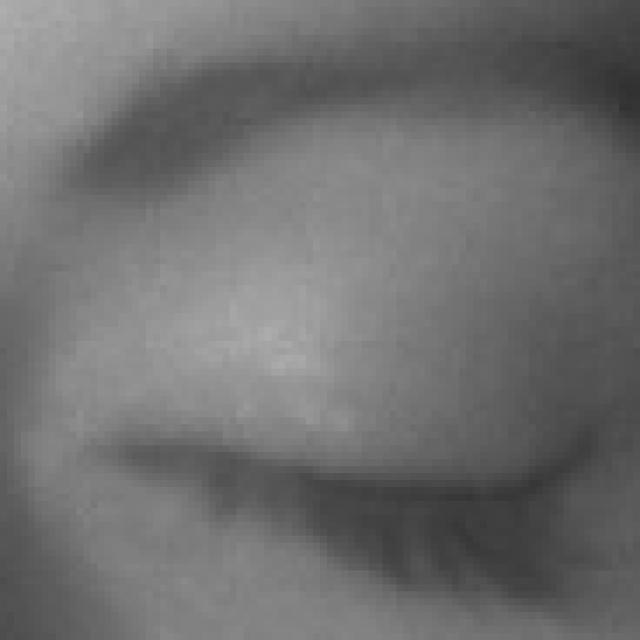Eyeclosed: (126, 257, 592, 640)
